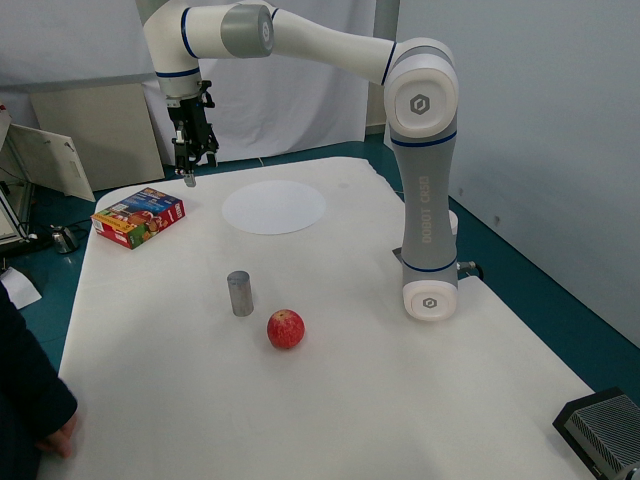apple: (262, 304, 309, 350)
metalROD: (223, 265, 261, 319)
